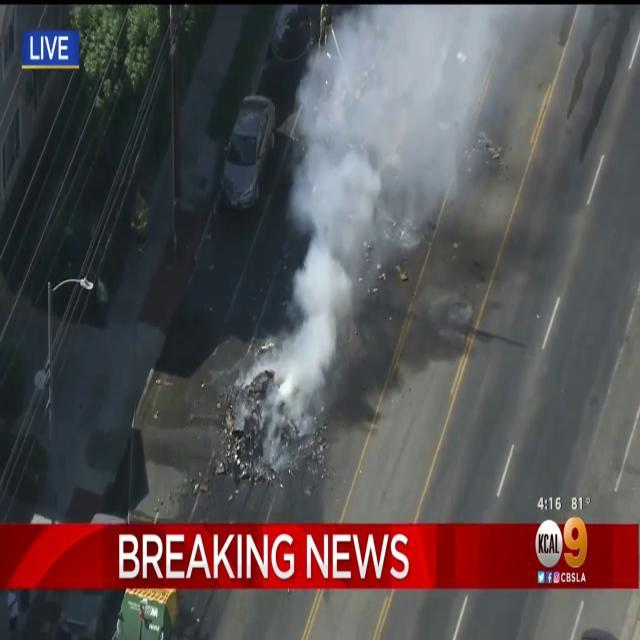Smoke: (261, 3, 505, 446)
